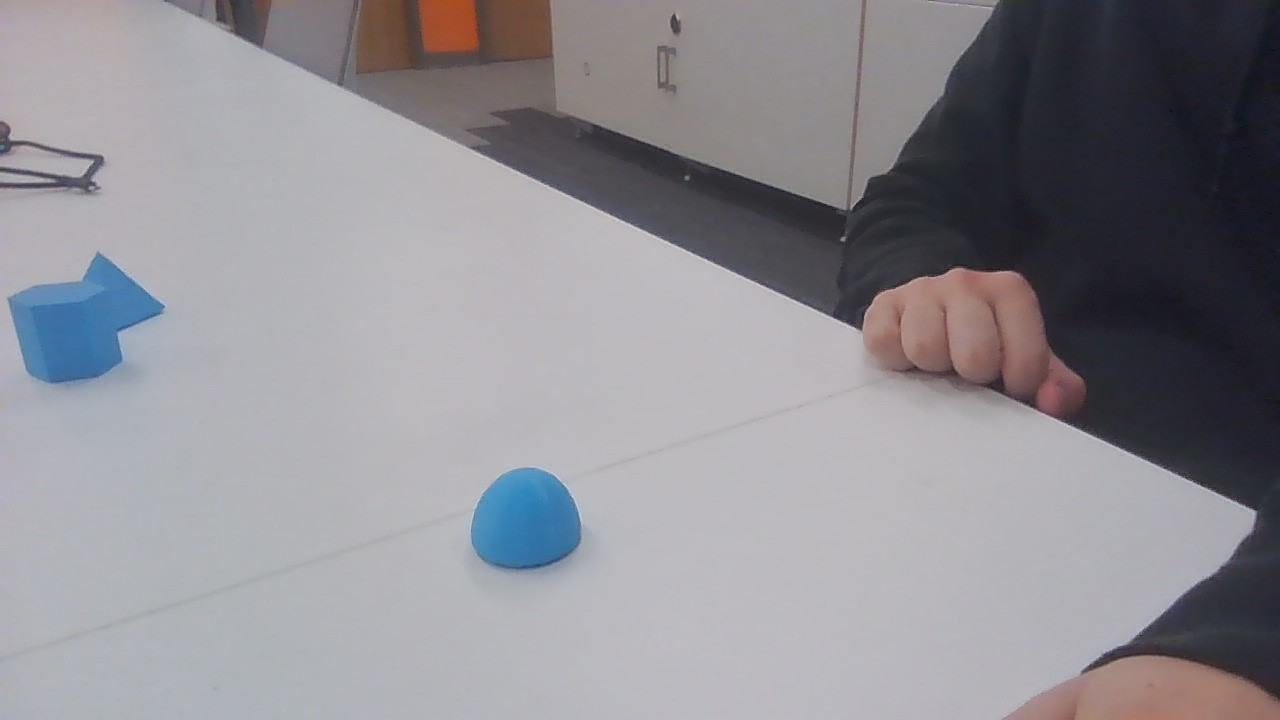halfsphere: (471, 467, 582, 568)
